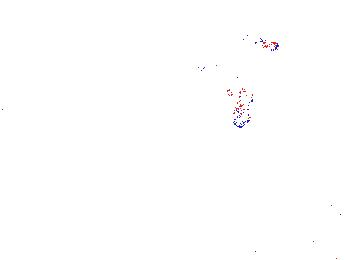X-ray fish: (232, 85, 257, 129)
red belly glassfish: (241, 30, 281, 53)
redtail glassfish: (197, 60, 249, 81)
